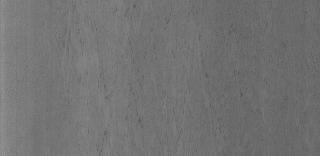silk spot: (59, 4, 233, 140)
